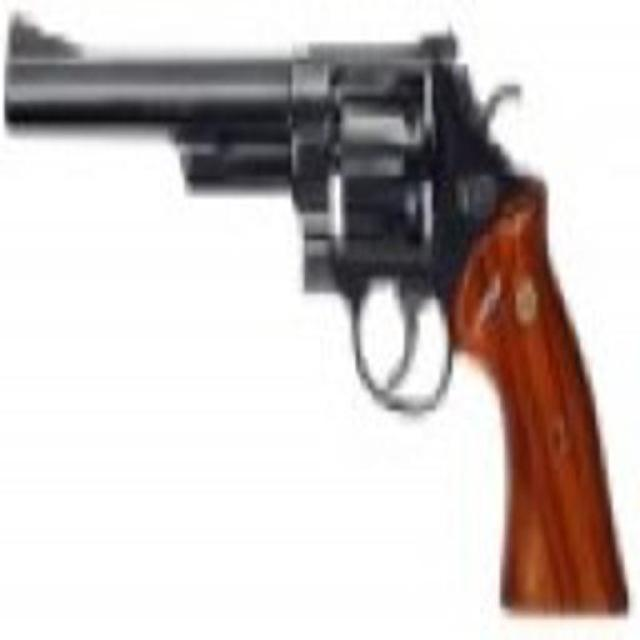pistol: (4, 21, 615, 617)
